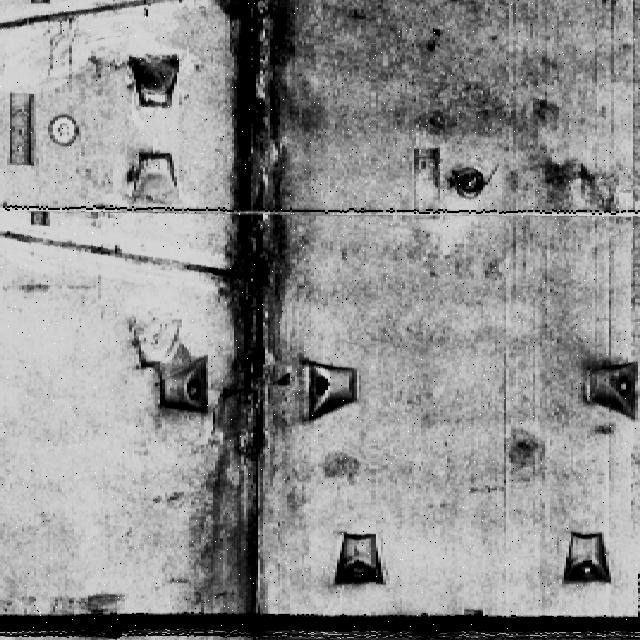leakage: (191, 1, 312, 622)
